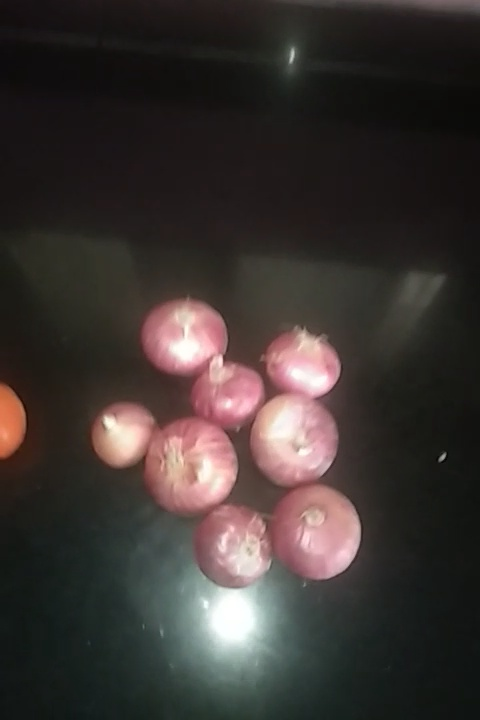onion: (138, 418, 239, 513), (271, 483, 359, 577), (247, 394, 343, 480), (179, 357, 270, 429), (136, 300, 228, 371), (193, 506, 271, 588), (263, 328, 340, 405), (91, 403, 159, 469)
tomato: (1, 389, 36, 470)
